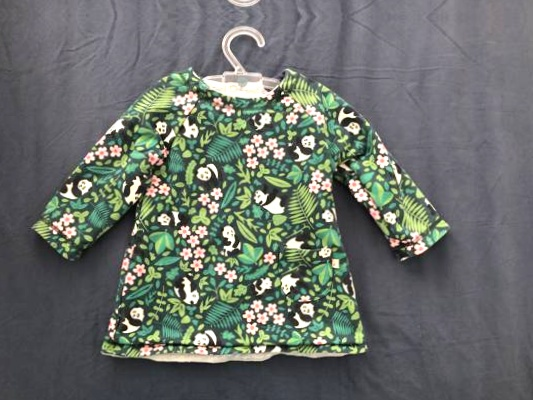Dress: (22, 46, 454, 376)
